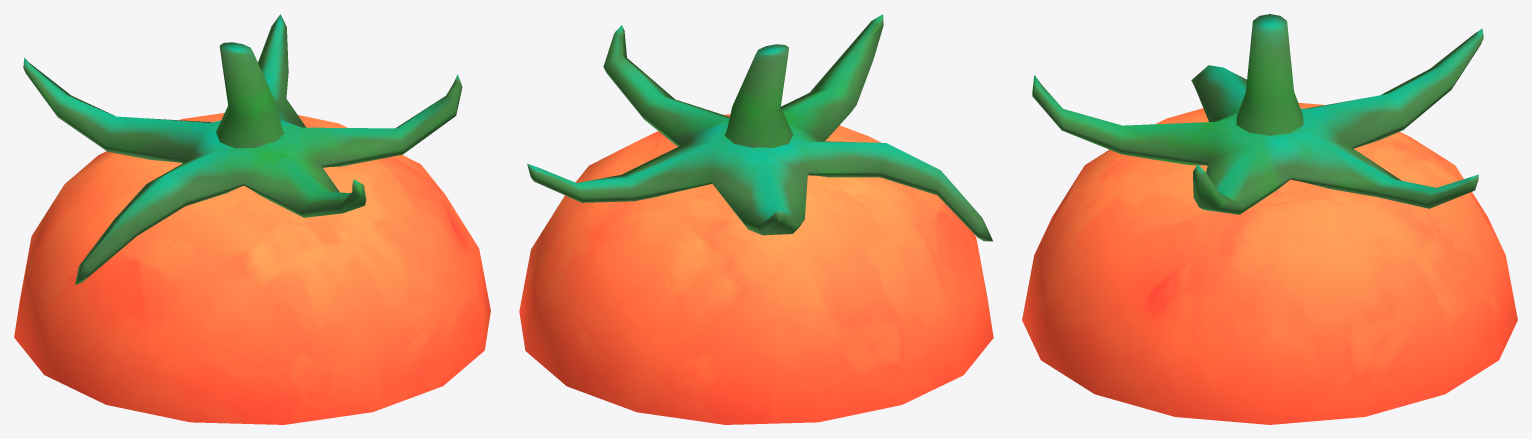
The model's file is tomato_top.glb.
3 renders of one model, left to right at view 1: azimuth 30°, elevation 25°; view 2: azimuth 150°, elevation 25°; view 3: azimuth 270°, elevation 25°, orthographic. The views are drawn at different scales.
Visible parts, largest first — view 1: TomatoTopA; view 2: TomatoTopA; view 3: TomatoTopA.
Boxes of the visible parts, box(x1,y1,x2,y2) form: TomatoTopA: box(14, 14, 490, 424); TomatoTopA: box(519, 14, 993, 424); TomatoTopA: box(1022, 14, 1517, 424).
Bounding box in the file's own units: 0.96 × 0.6212 × 0.96.
1 material, 1 textured.
